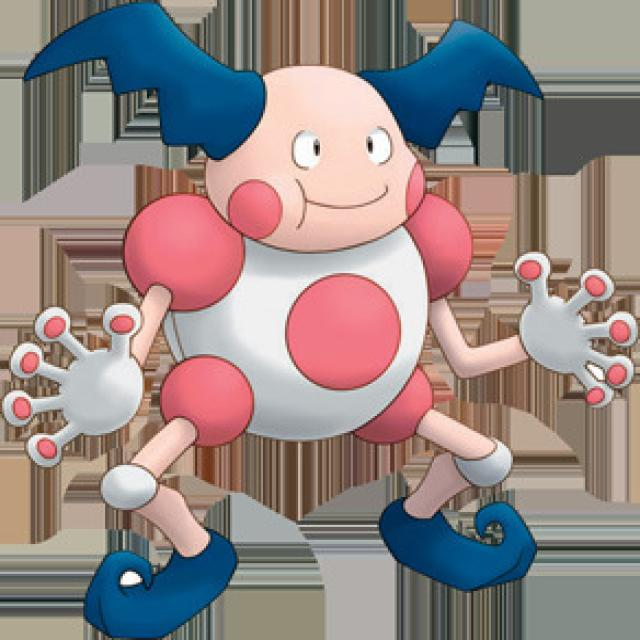MrMime: (10, 49, 562, 549)
